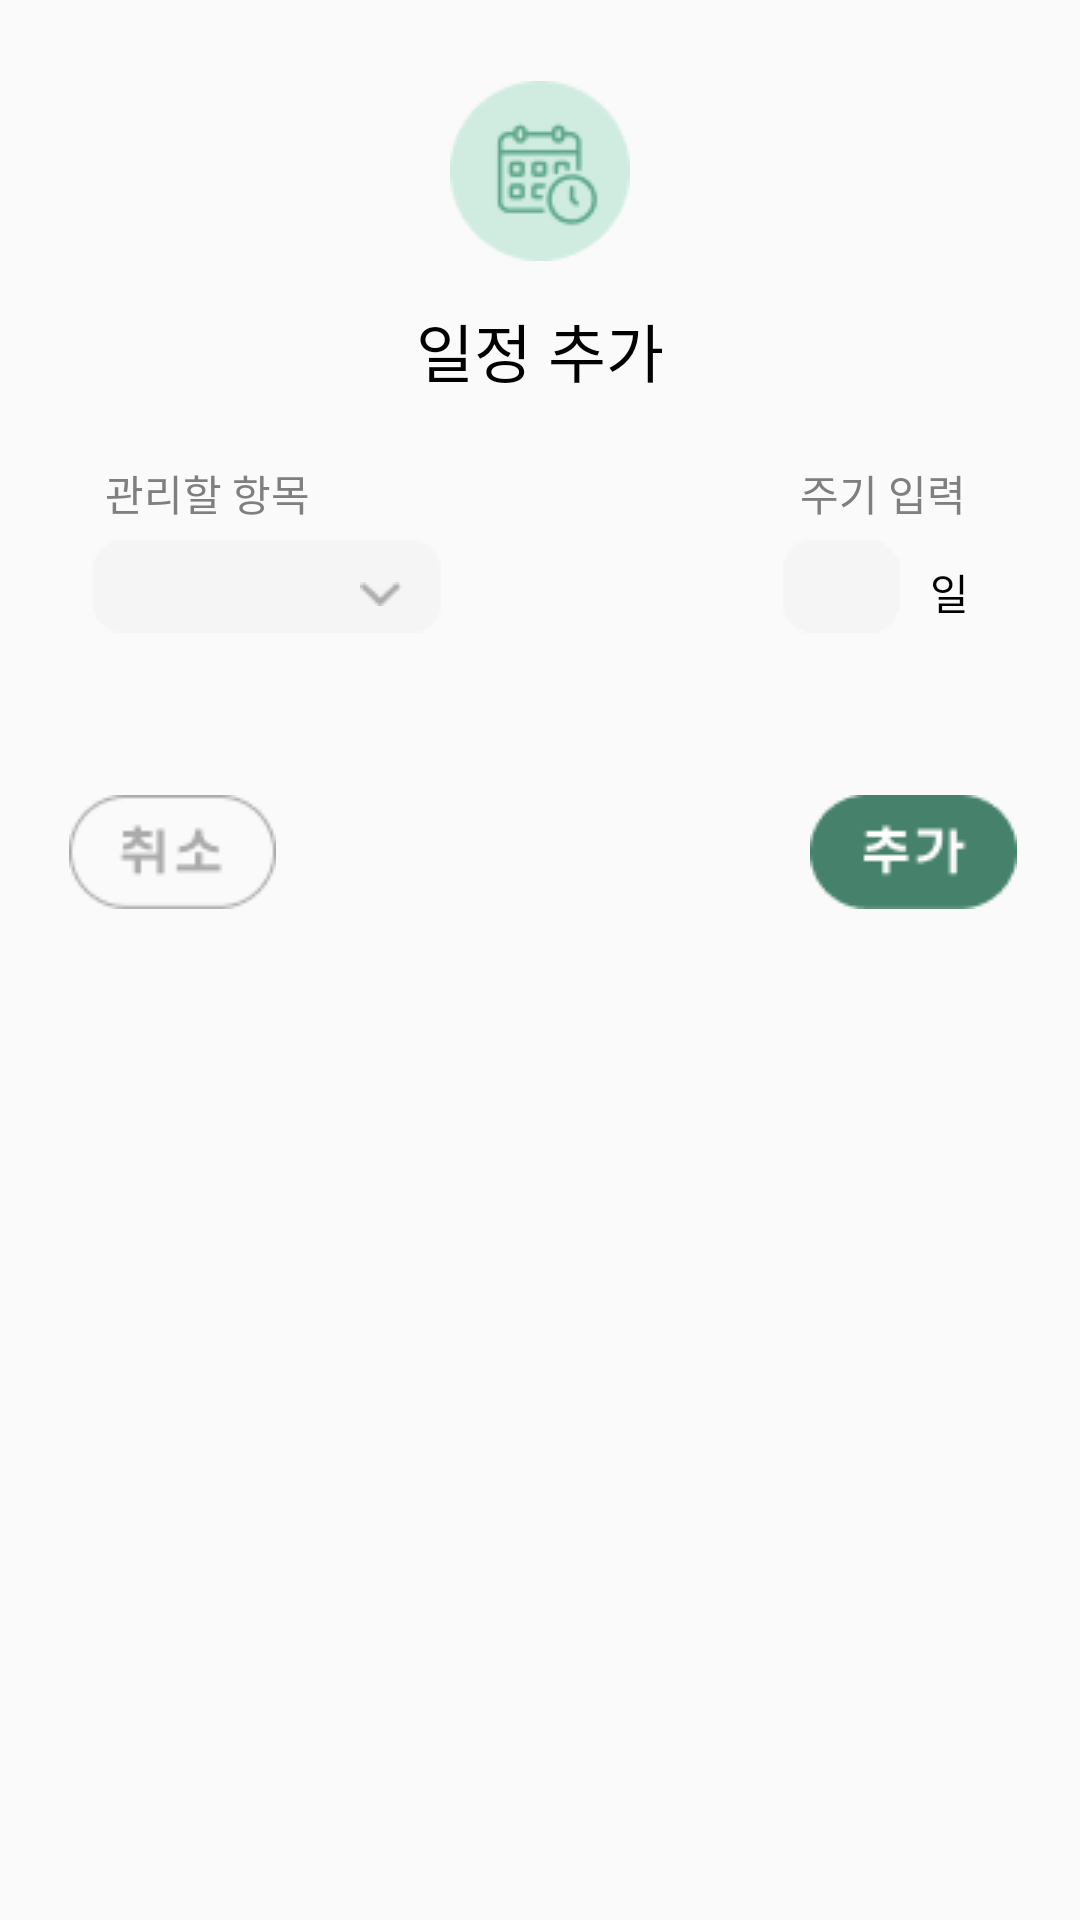

Where to tap for icons on this 1080 × 1920 app screen, as point (x, y):
manage calender: point (540, 171)
